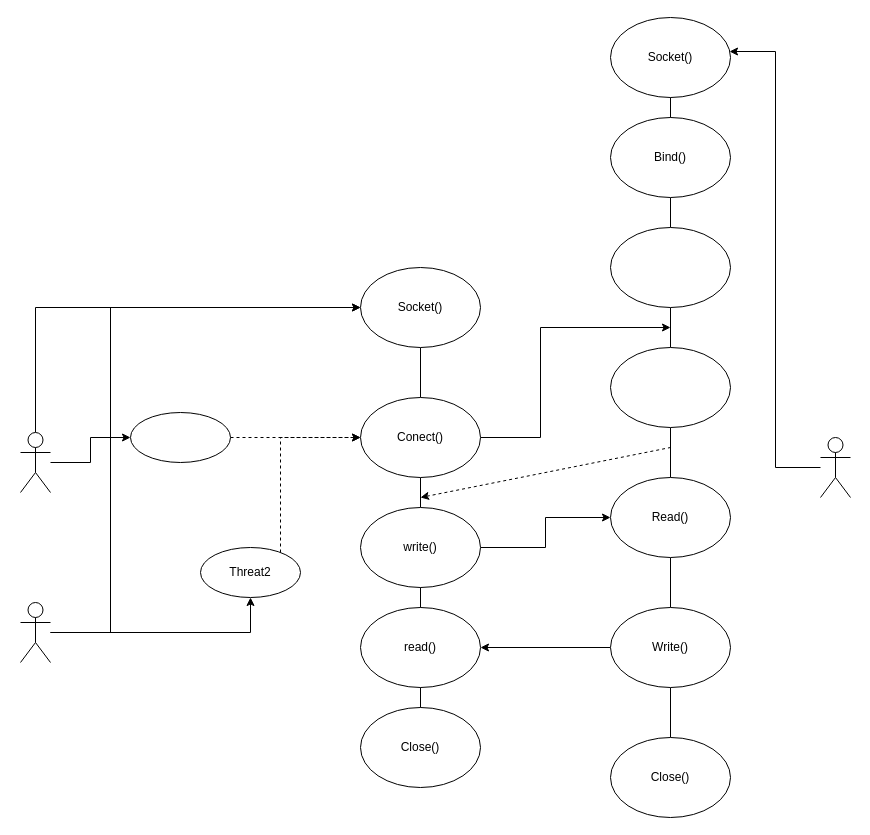
This 870x835 diagram has some shape labels left out. The box of each missing label's shape, as (x1, y1, x2, y2) in pixels:
Accept(): (610, 346, 730, 428)
Client: (20, 432, 50, 492)
Client2: (20, 602, 50, 662)
Listen(): (610, 226, 730, 308)
Server: (820, 436, 850, 498)
Threat1: (130, 412, 230, 462)
